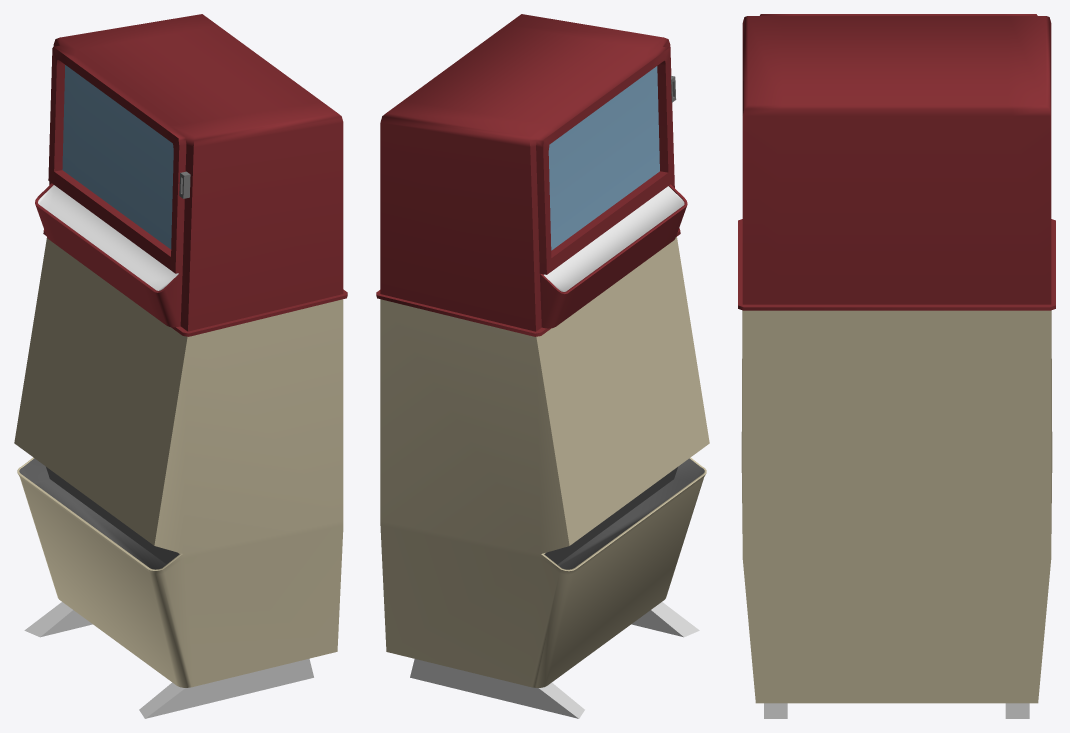
The model's file is MaquinaTabaco.fbx.
3 renders of one model, left to right at view 1: azimuth 30°, elevation 25°; view 2: azimuth 150°, elevation 25°; view 3: azimuth 270°, elevation 25°, orthographic. The views are drawn at different scales.
Parts seen in each view (by area): view 1: Cube.002; view 2: Cube.002; view 3: Cube.002.
Part boxes in pixels (<box>): Cube.002: <box>14,14,347,718</box>; Cube.002: <box>376,14,709,718</box>; Cube.002: <box>738,14,1055,718</box>.
Size of the model in its own units: 57.58 by 163 by 73.93.
